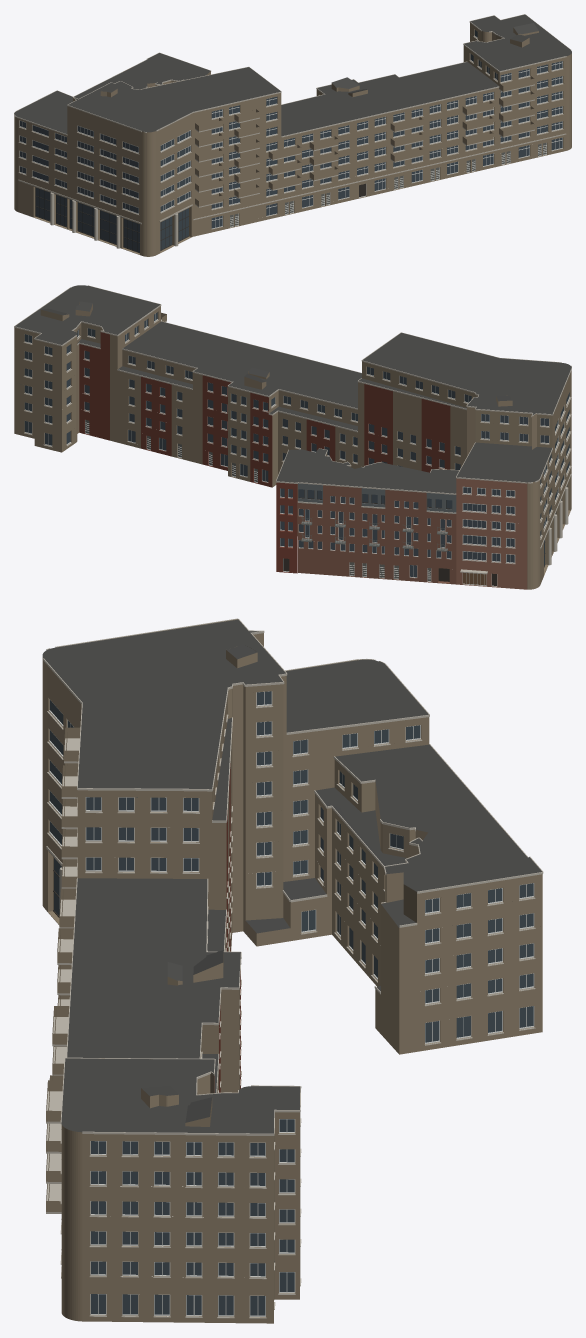
File: tweede-atjehstraat-2.glb
The picture shows the model from 3 angles, top to bottom: view 1: azimuth 30°, elevation 25°; view 2: azimuth 150°, elevation 25°; view 3: azimuth 270°, elevation 25°; orthographic projection. The views are drawn at different scales.
Parts seen in each view (by area): view 1: tweede-atjehstraat-2; view 2: tweede-atjehstraat-2; view 3: tweede-atjehstraat-2.
Part boxes in pixels (box(x1,y1,x2,y2)): tweede-atjehstraat-2: box(14, 14, 571, 256); tweede-atjehstraat-2: box(14, 285, 571, 589); tweede-atjehstraat-2: box(42, 618, 543, 1323).
Size of the model in its own units: 103 by 26.16 by 46.
